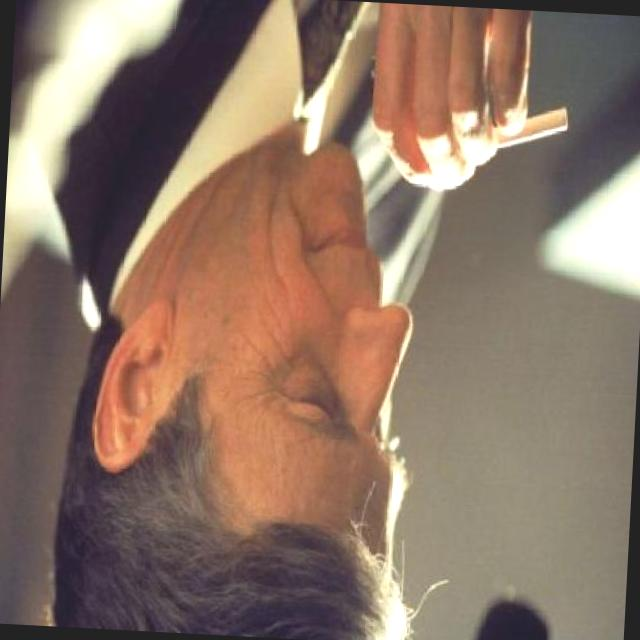smoke: (484, 99, 570, 160)
